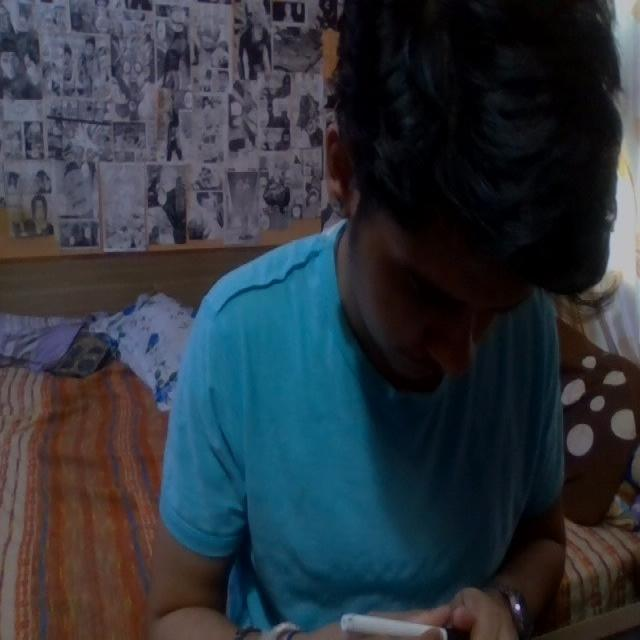focused: (148, 4, 618, 640)
